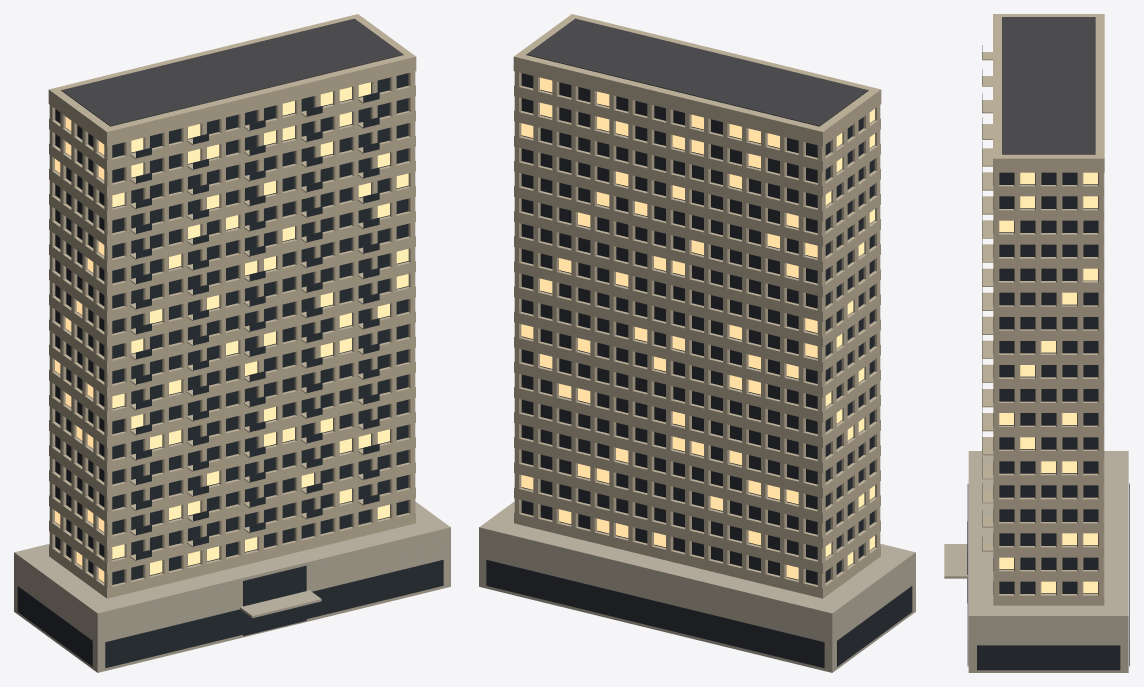
The model's file is t_slab_beige_18.glb.
The picture shows the model from 3 angles, left to right: view 1: azimuth 30°, elevation 25°; view 2: azimuth 150°, elevation 25°; view 3: azimuth 270°, elevation 25°; orthographic projection. The views are drawn at different scales.
Visible parts, largest first — view 1: t_slab_beige_18; view 2: t_slab_beige_18; view 3: t_slab_beige_18.
Boxes of the visible parts, left/top/right/bottom form: t_slab_beige_18: left=14, top=14, right=450, bottom=672; t_slab_beige_18: left=479, top=14, right=915, bottom=672; t_slab_beige_18: left=944, top=14, right=1129, bottom=672.
Bounding box in the file's own units: 56.18 × 79.72 × 26.54.
